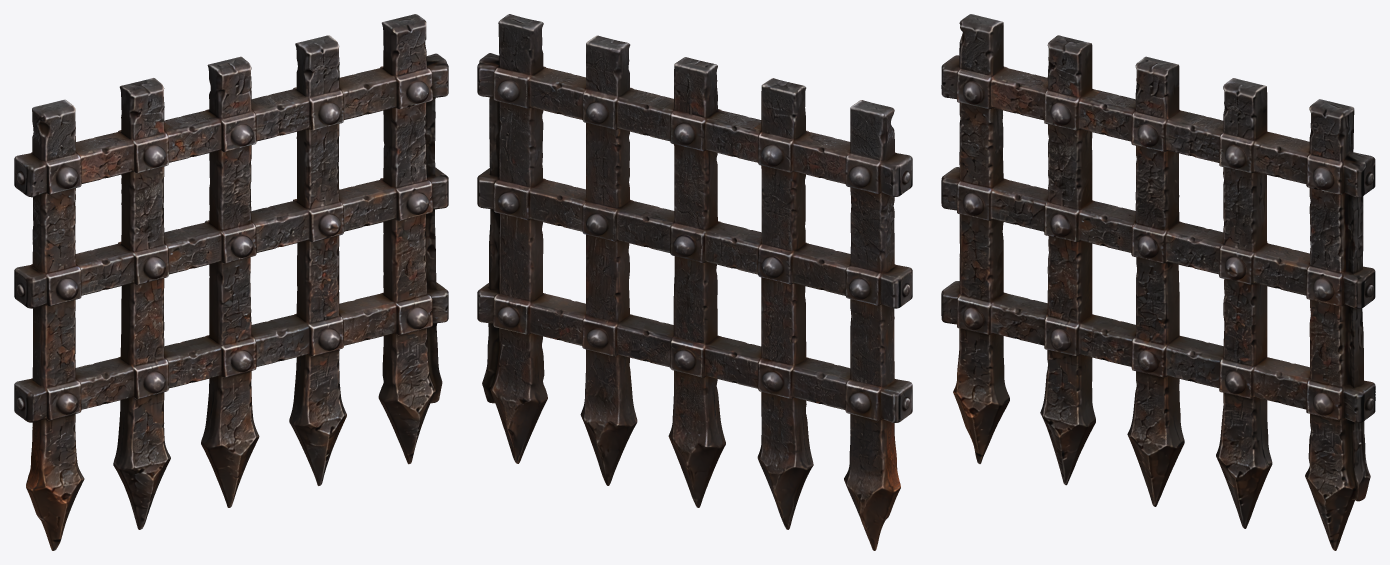
File: Lava_Gate.fbx
3 views of the same model, side by side, from view 1: azimuth 30°, elevation 25°; view 2: azimuth 150°, elevation 25°; view 3: azimuth 330°, elevation 25° (orthographic).
Visible parts, largest first — view 1: model; view 2: model; view 3: model.
Part boxes in pixels (box(x1,y1,x2,y2)): model: box(14, 14, 448, 550); model: box(477, 14, 912, 550); model: box(941, 14, 1375, 550).
Bounding box in the file's own units: 190 × 188 × 22.35.
1 material, 1 textured.
